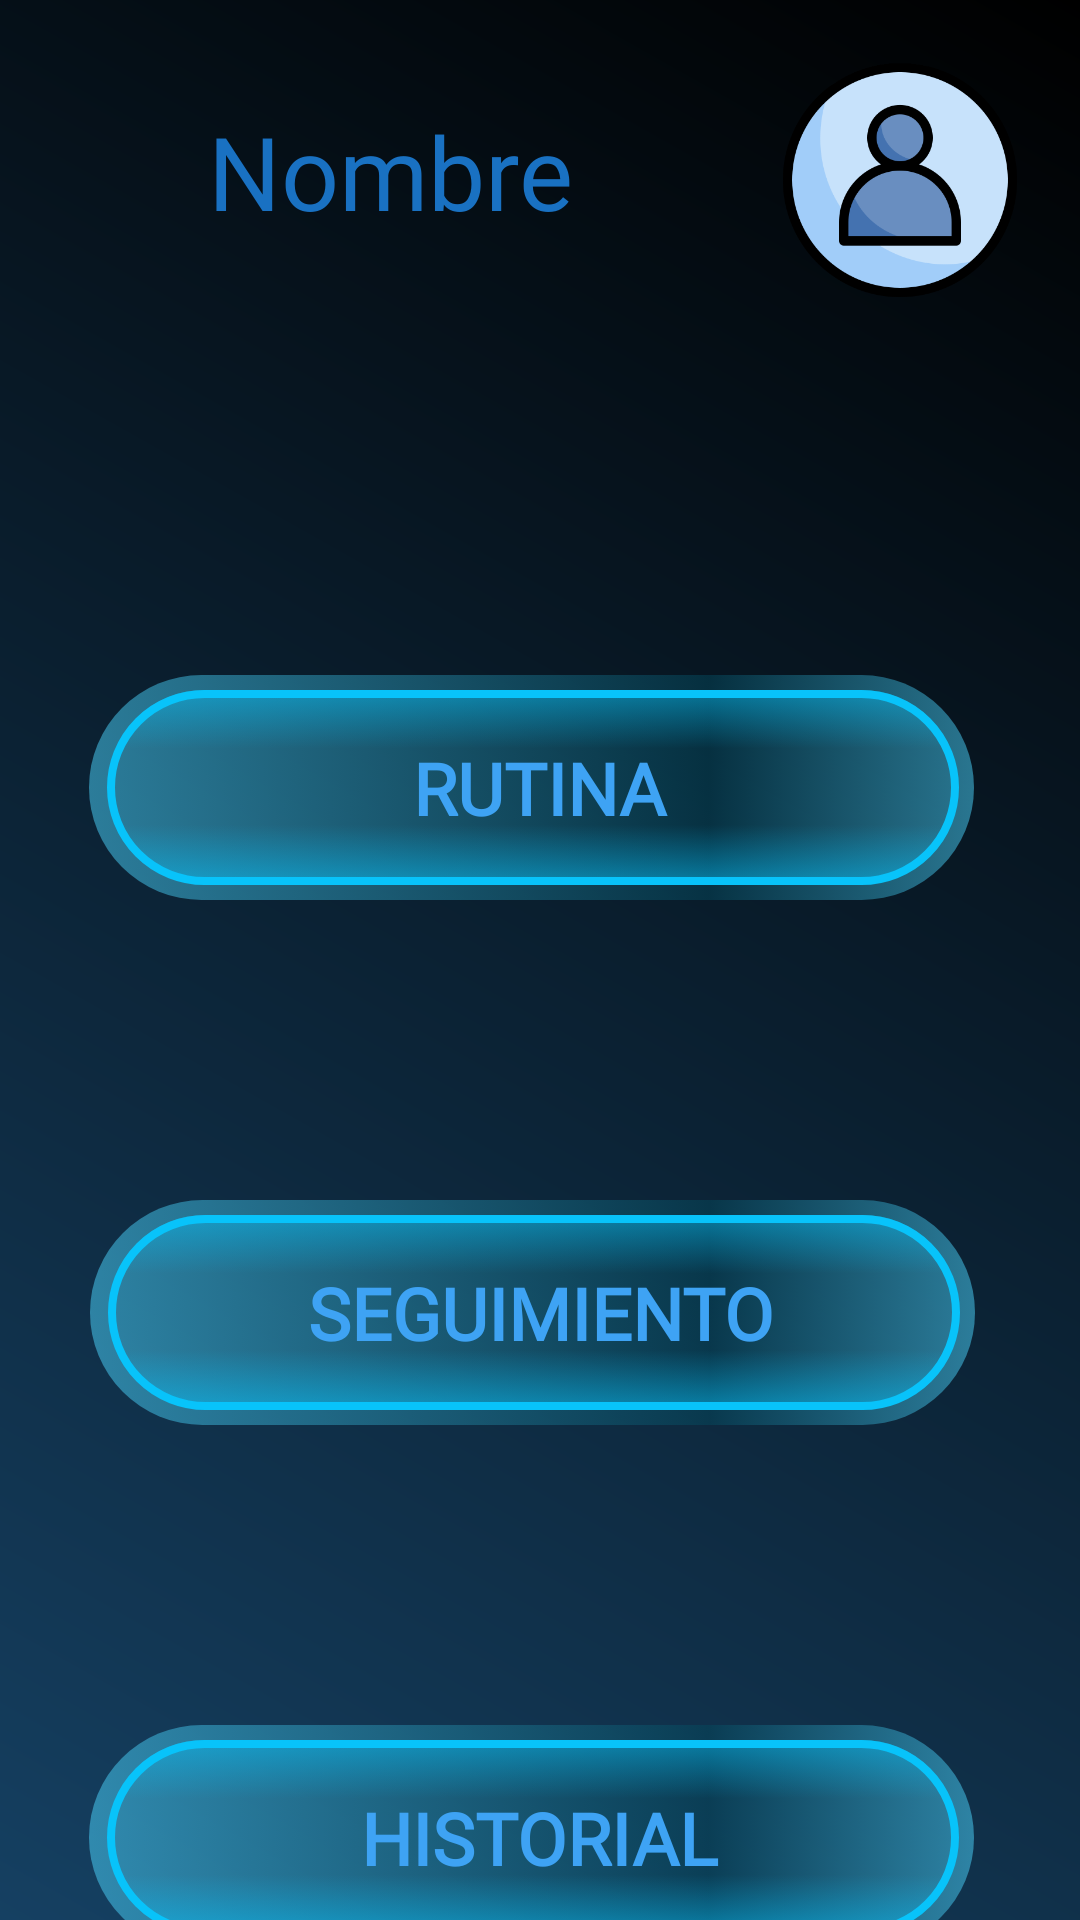

Icons on this 1080w x 1920h Android screen, each with the point to tap as [x,y]:
profile: [900,180]
